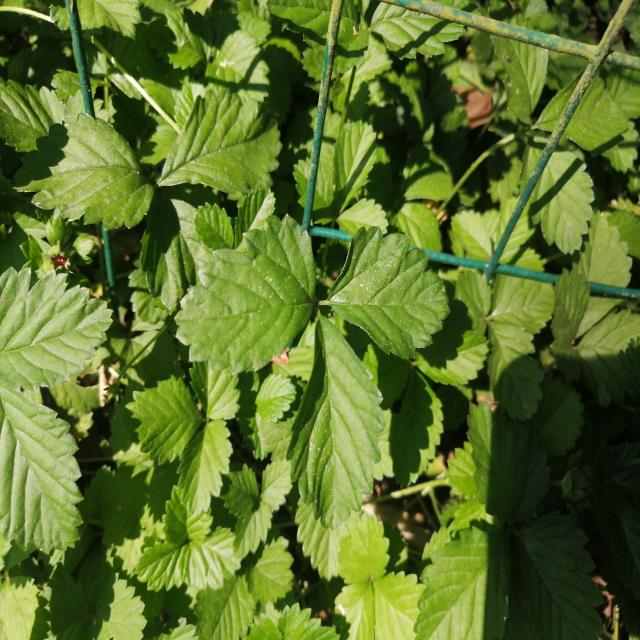Mock_strawberry: (203, 219, 430, 497), (18, 83, 302, 229), (126, 365, 294, 606)
